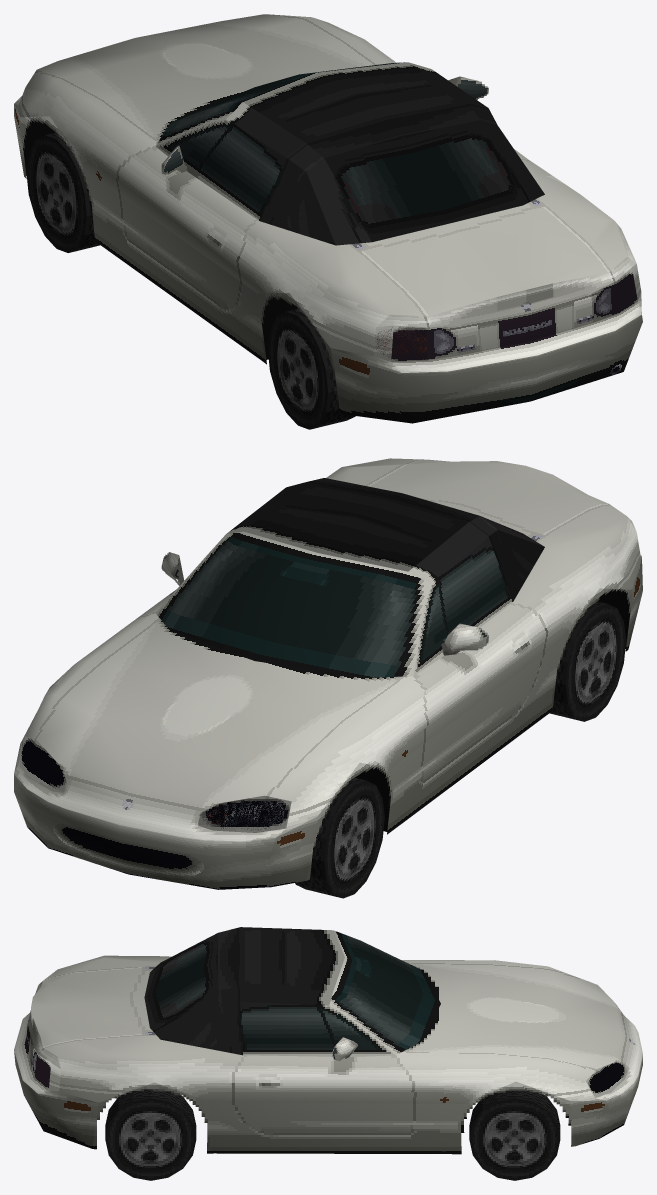
The model's file is GT_SIMULATION__ARODN.glb.
3 renders of one model, top to bottom at view 1: azimuth 30°, elevation 25°; view 2: azimuth 150°, elevation 25°; view 3: azimuth 270°, elevation 25°, orthographic. The views are drawn at different scales.
Parts seen in each view (by area): view 1: Native body LOD0, Native wheel 2, Native wheel 0; view 2: Native body LOD0, Native wheel 0, Native wheel 2; view 3: Native body LOD0, Native wheel 3, Native wheel 1.
Boxes of the visible parts, <box> form: Native body LOD0: <box>14,14,642,423</box>; Native wheel 2: <box>267,309,355,429</box>; Native wheel 0: <box>26,132,99,252</box>; Native body LOD0: <box>14,458,642,889</box>; Native wheel 0: <box>295,777,384,898</box>; Native wheel 2: <box>550,601,626,721</box>; Native body LOD0: <box>14,927,642,1154</box>; Native wheel 3: <box>105,1089,196,1180</box>; Native wheel 1: <box>469,1090,560,1180</box>.
Size of the model in its own units: 1.78 by 1.19 by 3.94.
Materials: 14 (13 with a texture image).
